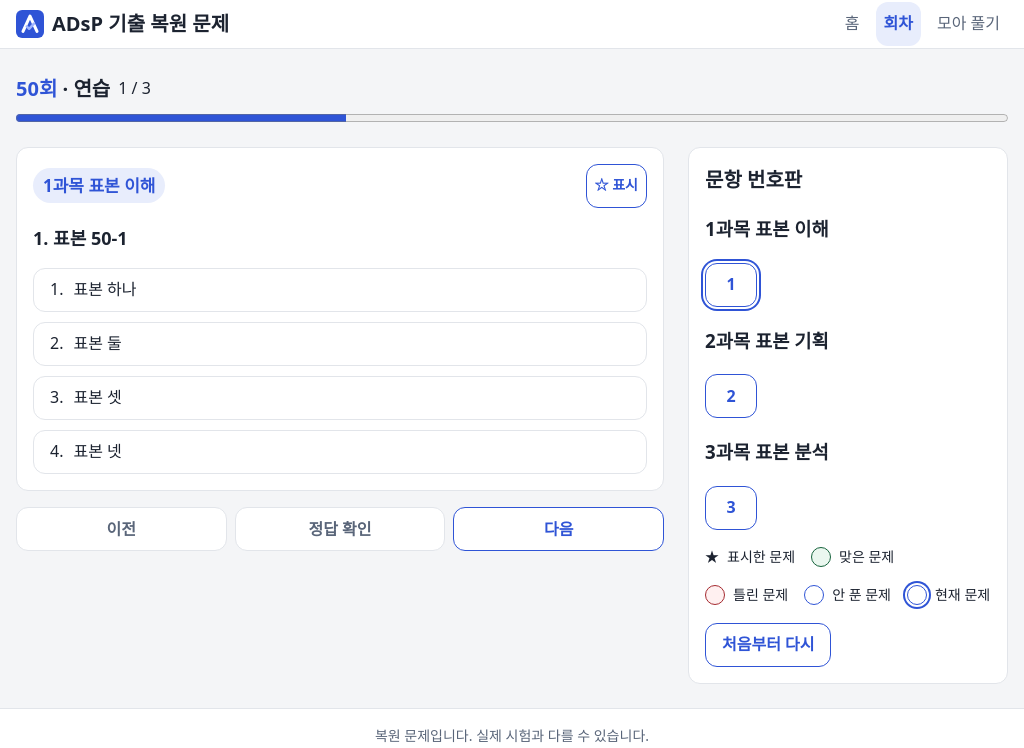
Test: topic failure hides only the panel and practice can continue
Expected: the heading "1. 표본 50-1" is shown, 33,226 -> 128,250
Click the button "2. 표본 둘". click: (98, 343)
box: 33,322 -> 647,366
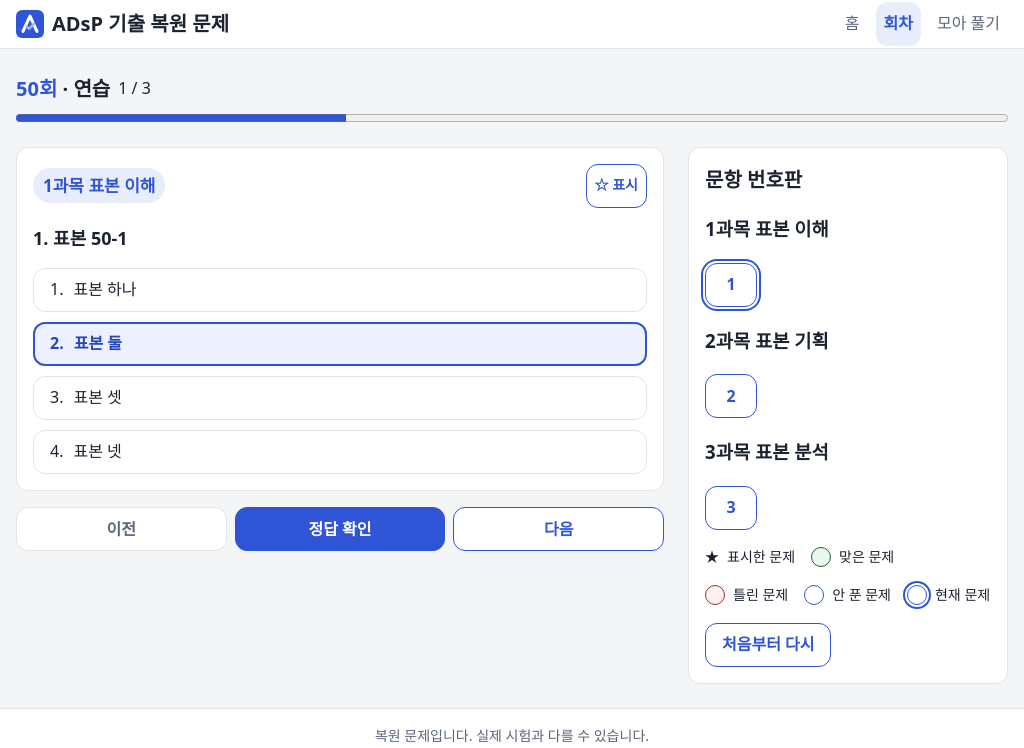
Click the button "정답 확인". click: (340, 529)
box: 235,507 -> 445,551
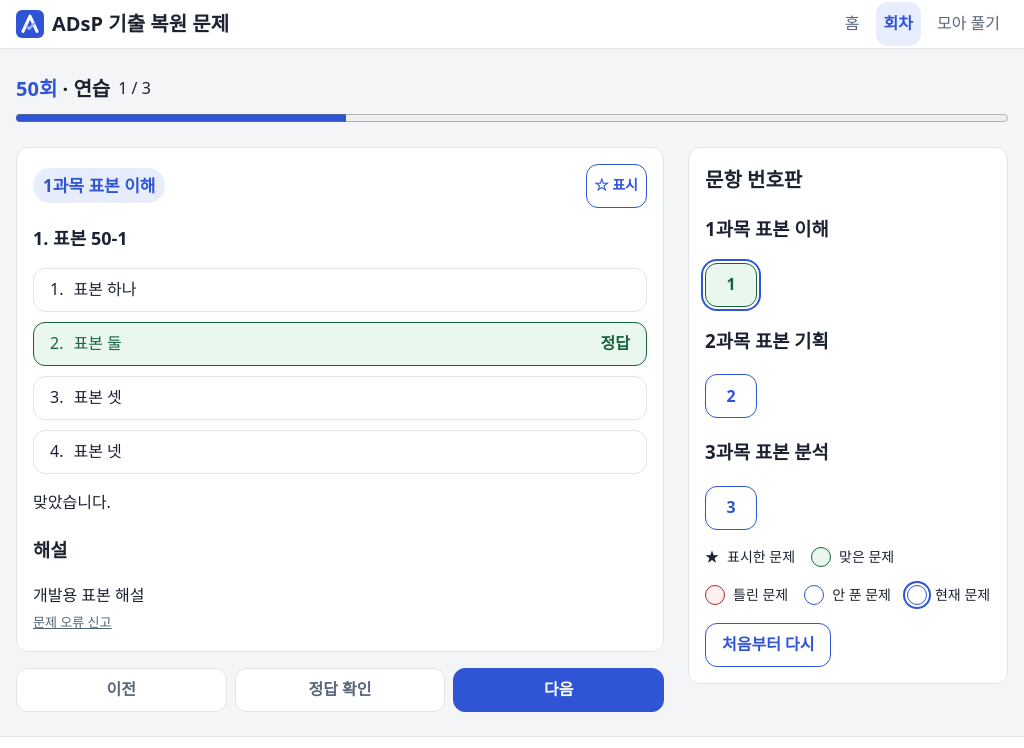
Expected: the text "맞았습니다." is shown, 33,491 -> 111,513
Expected: the link with aria-label "50회 1번 문제 오류 신고" is shown, 33,612 -> 112,633
Click the button "다음". click: (559, 690)
box: 453,668 -> 664,712
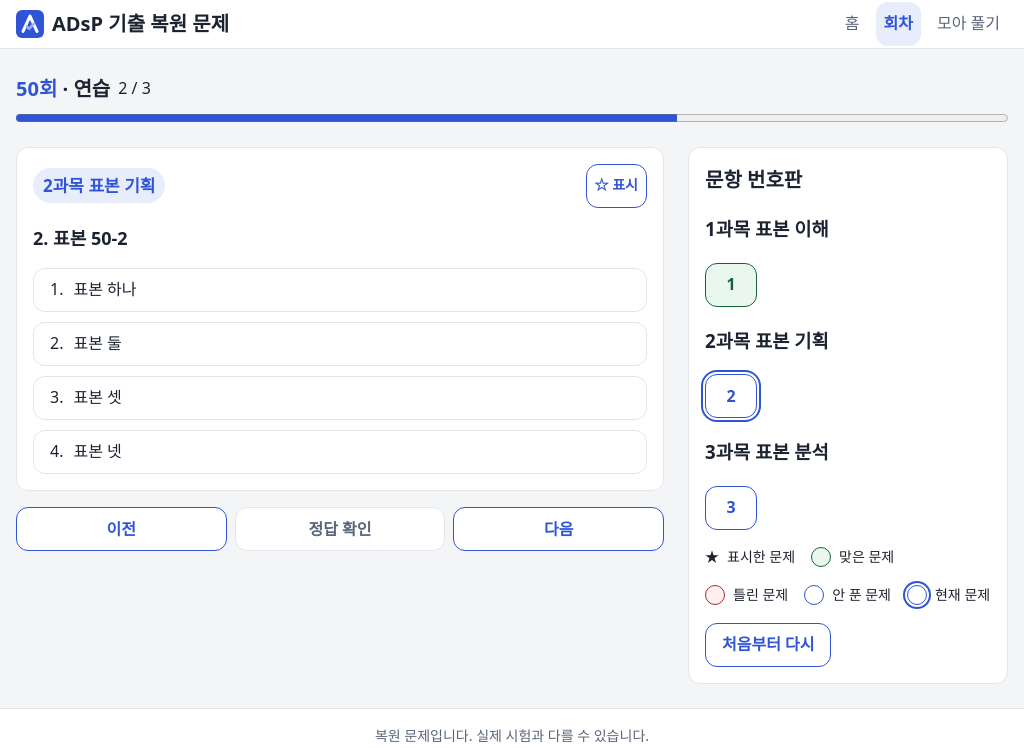
Expected: the heading "2. 표본 50-2" is shown, 33,226 -> 128,250
